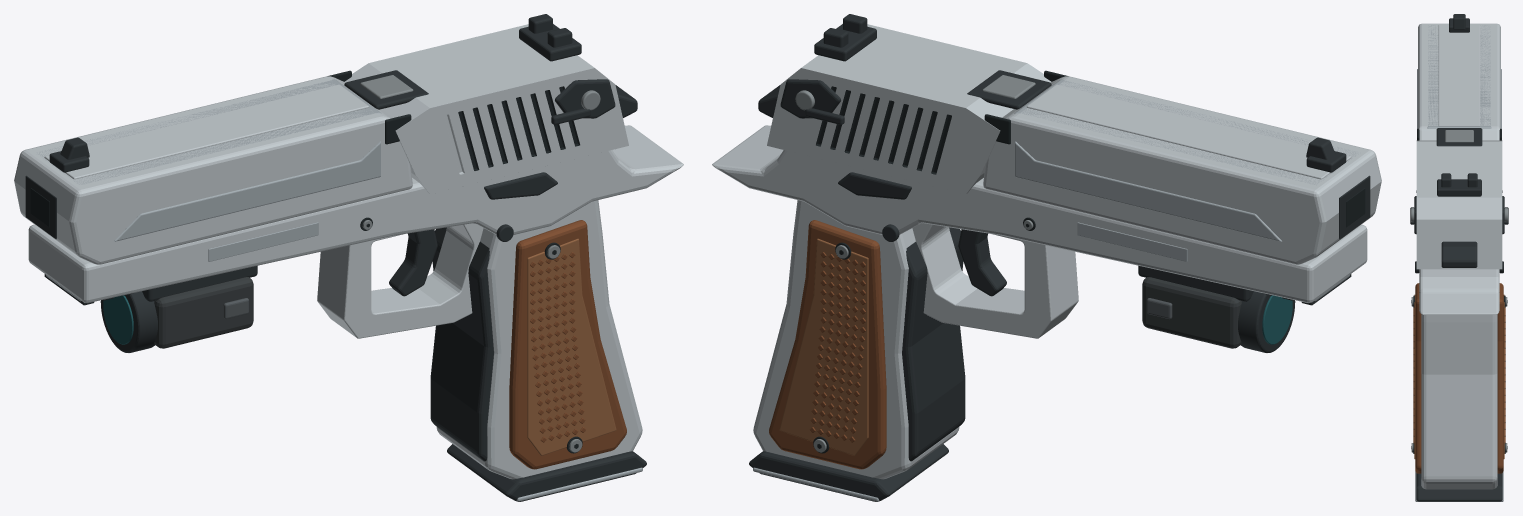
Rendered from desert_eagle.glb.
3 views of the same model, side by side, from view 1: azimuth 30°, elevation 25°; view 2: azimuth 150°, elevation 25°; view 3: azimuth 270°, elevation 25° (orthographic). The views are drawn at different scales.
Visible parts, largest first — view 1: part_frame_surfaces, part_barrel_surfaces, part_slide_surfaces, part_grip_panels_surfaces, part_light_surfaces, part_base_surfaces, part_sights_surfaces; view 2: part_frame_surfaces, part_barrel_surfaces, part_slide_surfaces, part_grip_panels_surfaces, part_light_surfaces, part_base_surfaces, part_sights_surfaces; view 3: part_frame_surfaces, part_slide_surfaces, part_barrel_surfaces, part_grip_panels_surfaces, part_base_surfaces, part_sights_surfaces.
Part boxes in pixels (left/top/right/bottom): part_frame_surfaces: left=28, top=125, right=683, bottom=479; part_barrel_surfaces: left=14, top=70, right=412, bottom=264; part_slide_surfaces: left=344, top=24, right=637, bottom=194; part_grip_panels_surfaces: left=509, top=220, right=626, bottom=469; part_light_surfaces: left=100, top=265, right=257, bottom=352; part_base_surfaces: left=447, top=444, right=646, bottom=501; part_sights_surfaces: left=49, top=14, right=581, bottom=172; part_frame_surfaces: left=712, top=125, right=1367, bottom=479; part_barrel_surfaces: left=983, top=70, right=1381, bottom=264; part_slide_surfaces: left=758, top=24, right=1051, bottom=194; part_grip_panels_surfaces: left=769, top=220, right=886, bottom=469; part_light_surfaces: left=1138, top=265, right=1295, bottom=352; part_base_surfaces: left=749, top=444, right=948, bottom=501; part_sights_surfaces: left=814, top=14, right=1346, bottom=172; part_frame_surfaces: left=1415, top=190, right=1503, bottom=489; part_slide_surfaces: left=1410, top=128, right=1508, bottom=269; part_barrel_surfaces: left=1417, top=23, right=1501, bottom=140; part_grip_panels_surfaces: left=1411, top=283, right=1507, bottom=473; part_base_surfaces: left=1415, top=471, right=1503, bottom=501; part_sights_surfaces: left=1437, top=14, right=1481, bottom=196.
Bounding box in the file's own units: 89.88 × 61.35 × 17.85.
